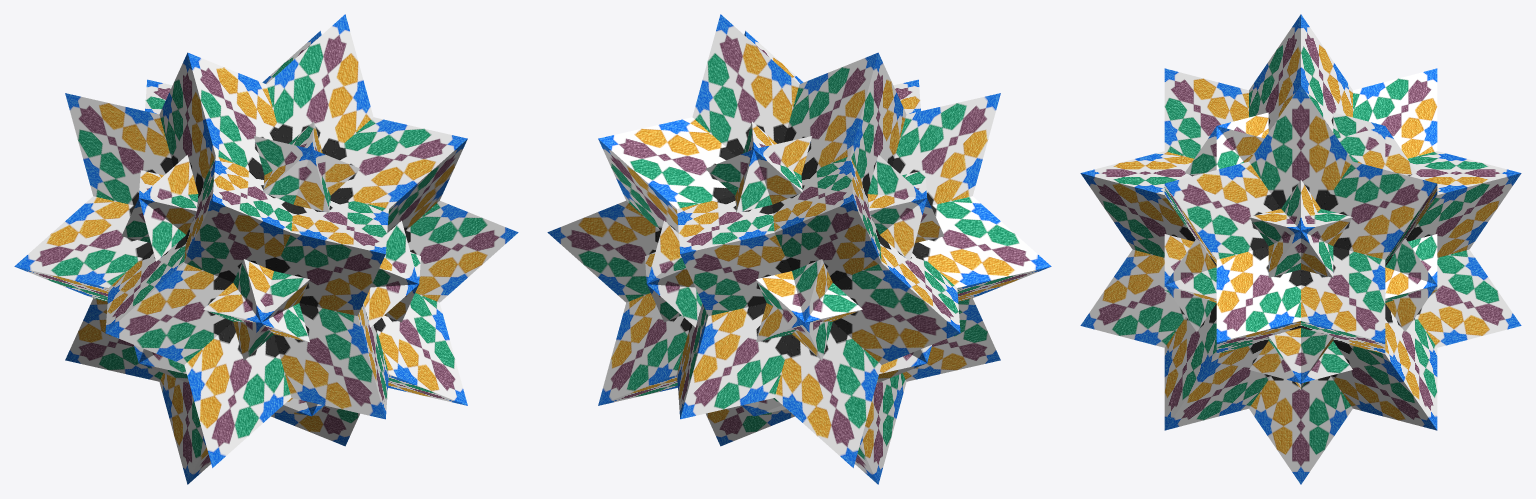
File: 2GreatRhombicTriacontahedron.obj
3 views of the same model, side by side, from view 1: azimuth 30°, elevation 25°; view 2: azimuth 150°, elevation 25°; view 3: azimuth 270°, elevation 25° (orthographic). The views are drawn at different scales.
Size of the model in its own units: 1.12 by 1.12 by 1.12.
Materials: 1 (1 with a texture image).
